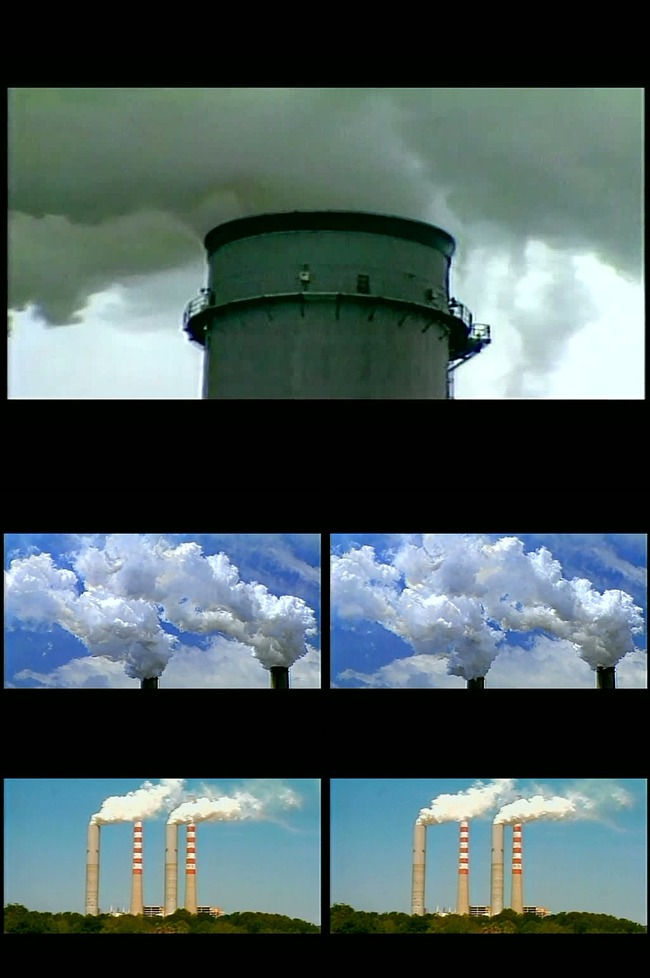dust: (143, 95, 519, 250), (11, 542, 317, 672), (344, 542, 641, 672), (88, 779, 295, 837), (386, 785, 607, 836)
